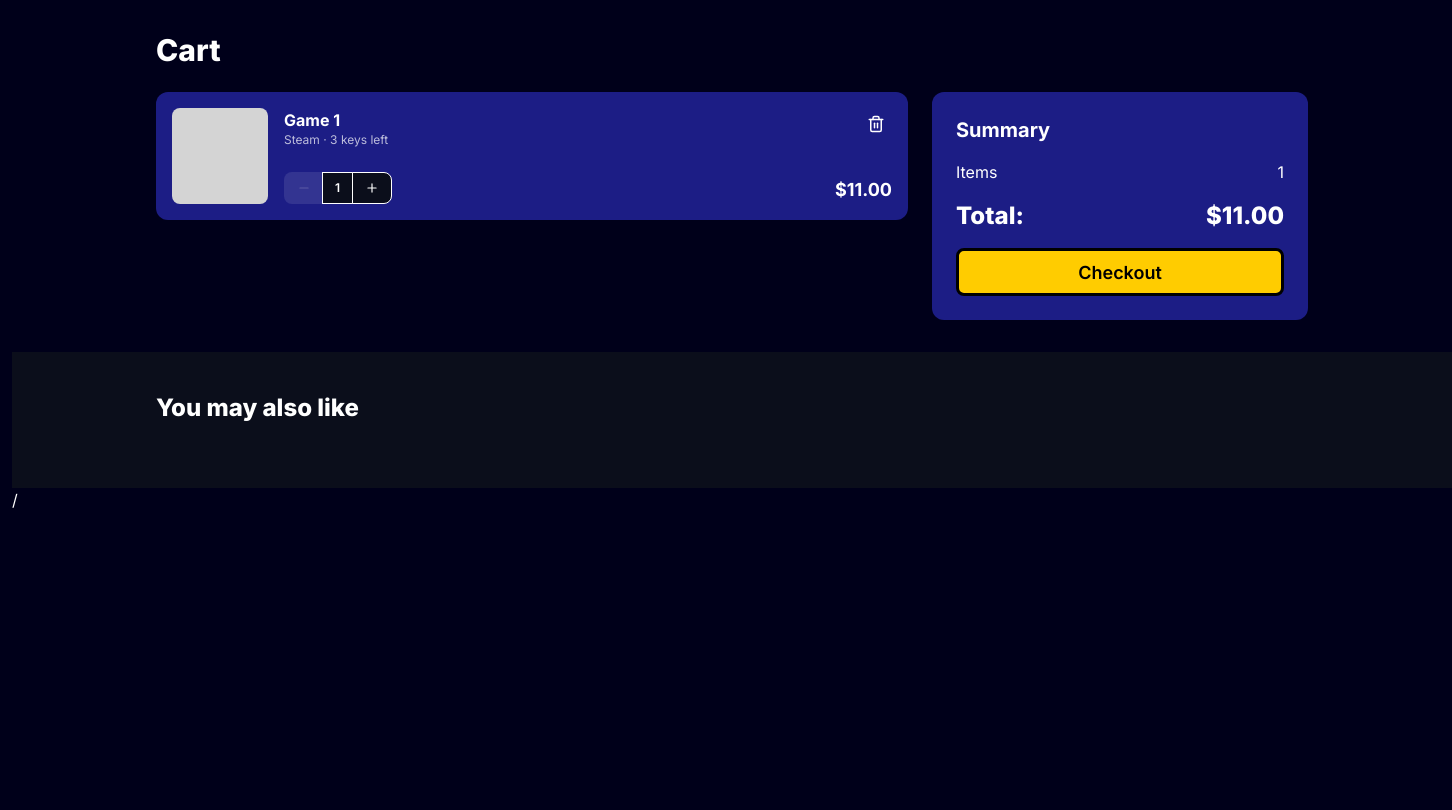
Test: Cart › shows server errors from cart actions
Step 1. Click the button named "Remove Game 1" → [876, 124], box x1=860 y1=108 x2=892 y2=140
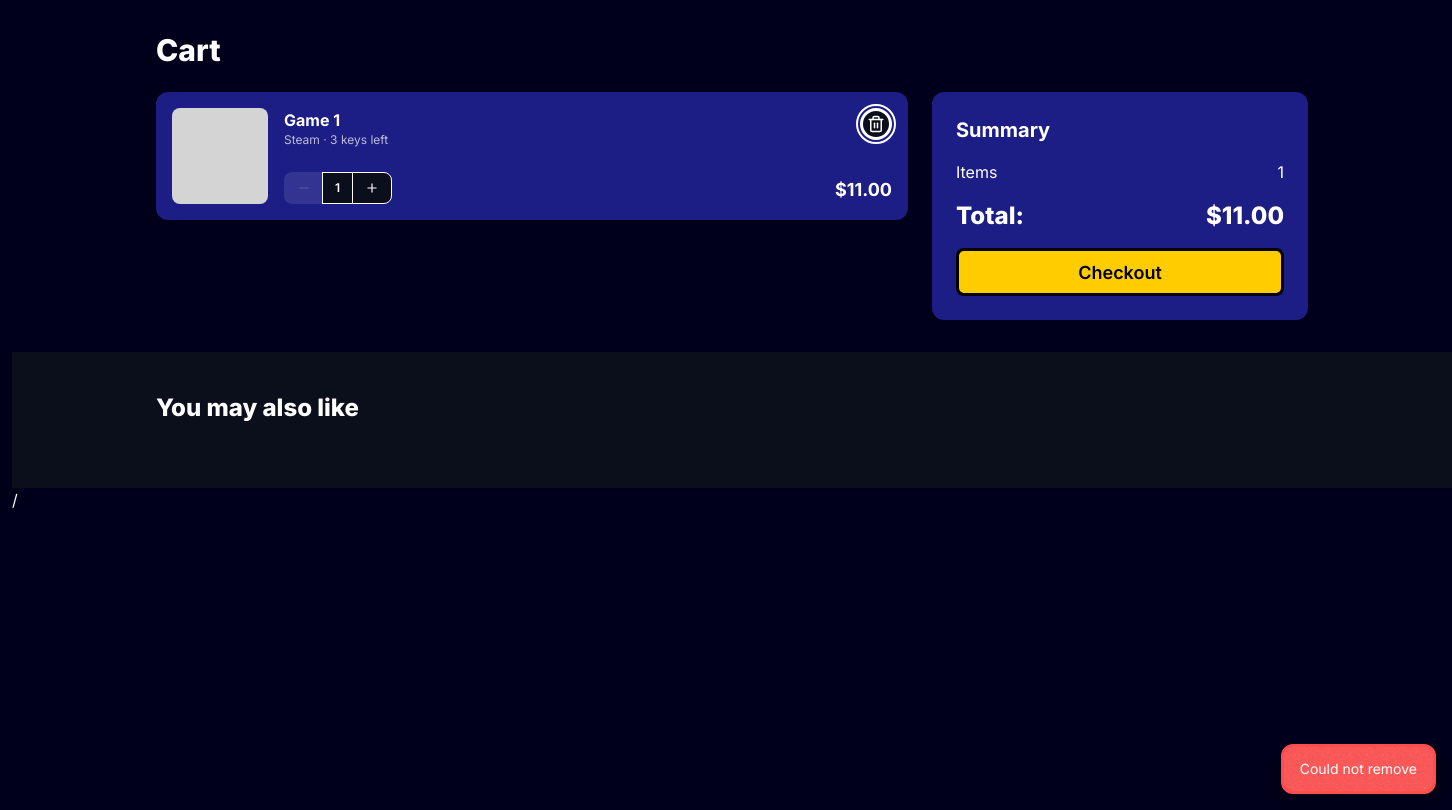
Expected: the text "Could not remove" is shown, x1=1300 y1=759 x2=1417 y2=779
